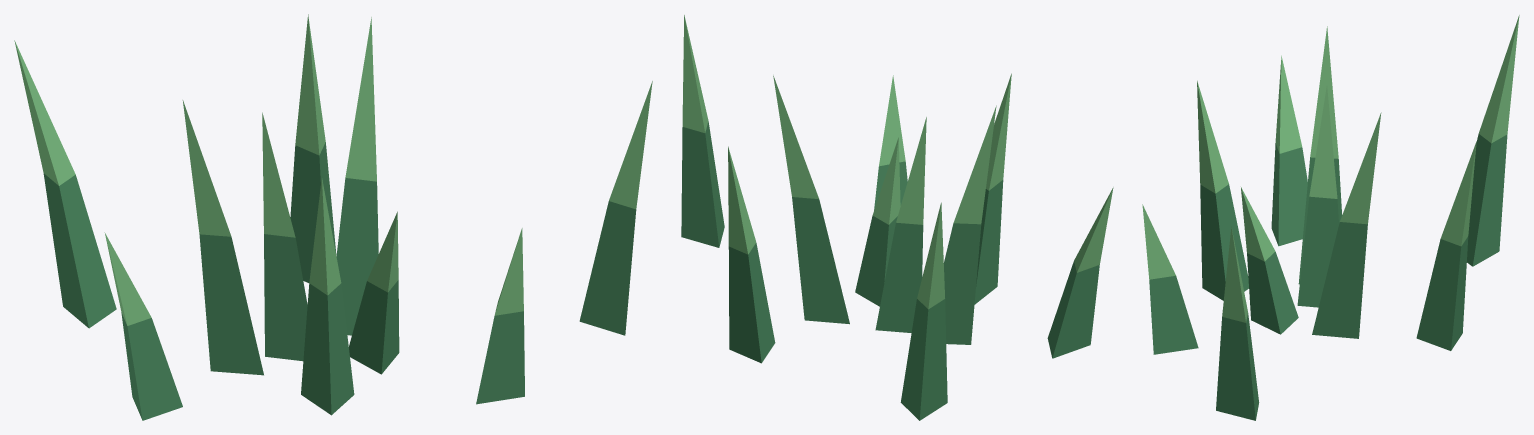
File: firefly-grass.glb
3 renders of one model, left to right at view 1: azimuth 30°, elevation 25°; view 2: azimuth 150°, elevation 25°; view 3: azimuth 270°, elevation 25°, orthographic. The views are drawn at different scales.
Visible parts, largest first — view 1: firefly-grass; view 2: firefly-grass; view 3: firefly-grass.
Part boxes in pixels (x1=…): firefly-grass: x1=14, y1=14, x2=652, y2=420; firefly-grass: x1=681, y1=15, x2=1113, y2=420; firefly-grass: x1=1142, y1=15, x2=1519, y2=420.
Bounding box in the file's own units: 1.34 × 0.705 × 1.02.
